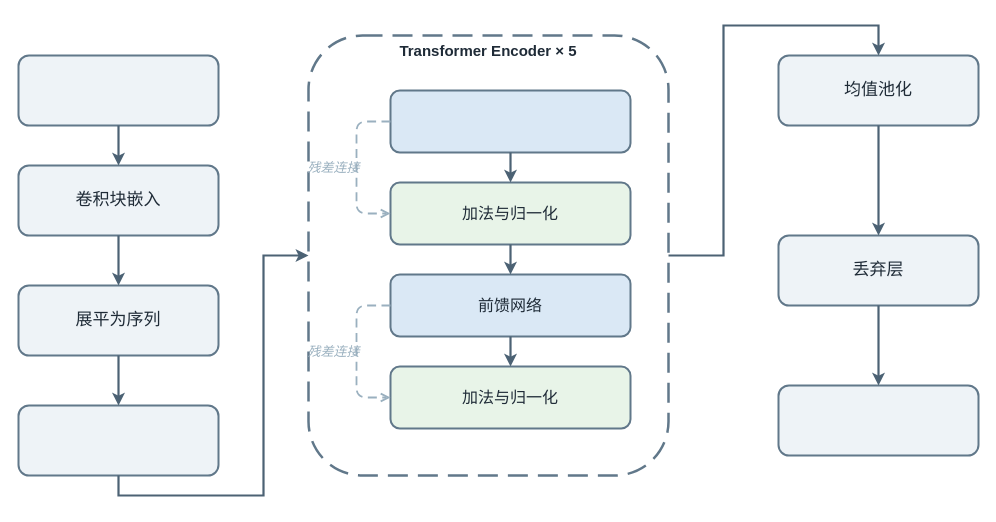
Image size: 996x522. Some labels were removed from this diagram. The shapes that lost their labels are listed below. From the top down, each one's centre as x and y in pixels, then its label:
At (118,90): "对数梅尔频谱".
At (510,121): "多头自注意力".
At (118,440): "正弦位置编码".
At (878,420): "线性分类器 八类输出".
